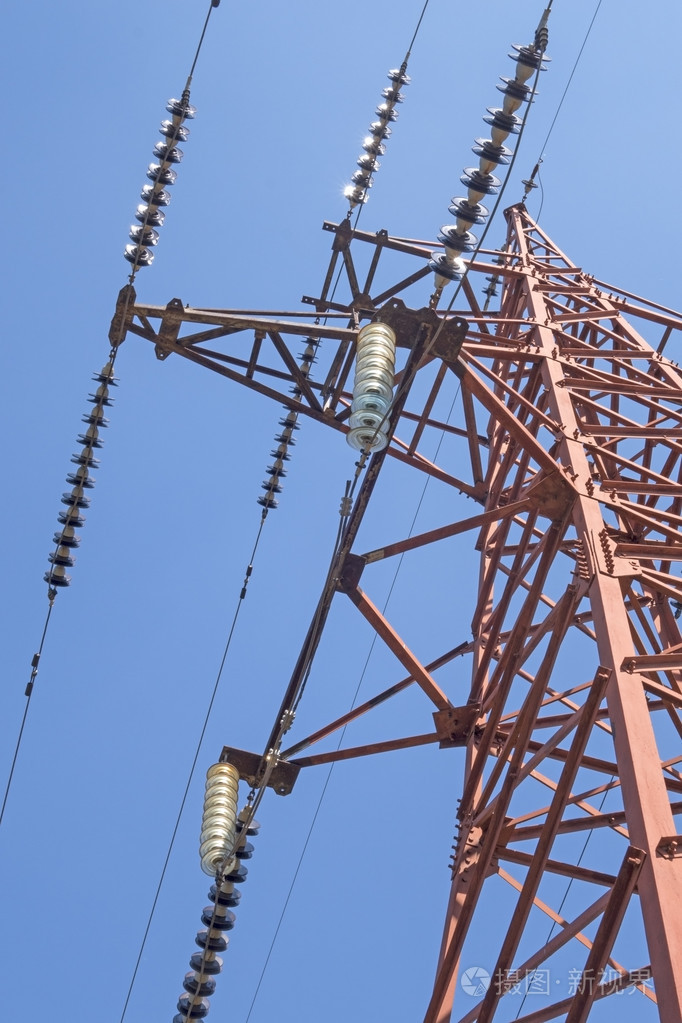insulator: (431, 36, 551, 282), (41, 372, 117, 592), (176, 814, 256, 1022), (122, 94, 198, 267), (259, 335, 321, 509), (343, 64, 410, 206), (349, 321, 397, 456), (201, 763, 235, 880)
